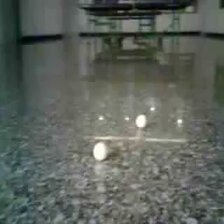w: (92, 142, 109, 160), (135, 114, 148, 129)
